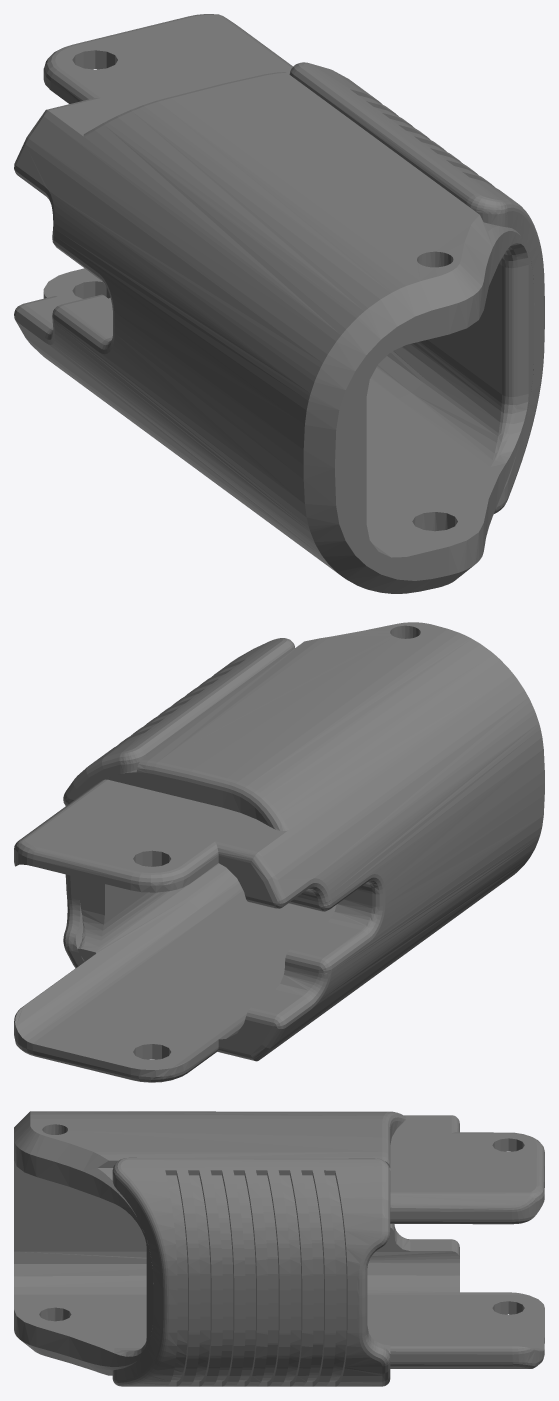
File: rh_middle_proximal_vis.obj
3 renders of one model, top to bottom at view 1: azimuth 30°, elevation 25°; view 2: azimuth 150°, elevation 25°; view 3: azimuth 270°, elevation 25°, orthographic. The views are drawn at different scales.
Visible parts, largest first — view 1: rh_middle_proximal; view 2: rh_middle_proximal; view 3: rh_middle_proximal.
Boxes of the visible parts, bbox=[...] form: rh_middle_proximal: bbox=[14, 14, 544, 593]; rh_middle_proximal: bbox=[14, 622, 544, 1082]; rh_middle_proximal: bbox=[14, 1111, 544, 1386].
Bounding box in the file's own units: 0.0171 × 0.0154 × 0.0328.
Materials: 1 (1 with a texture image).
